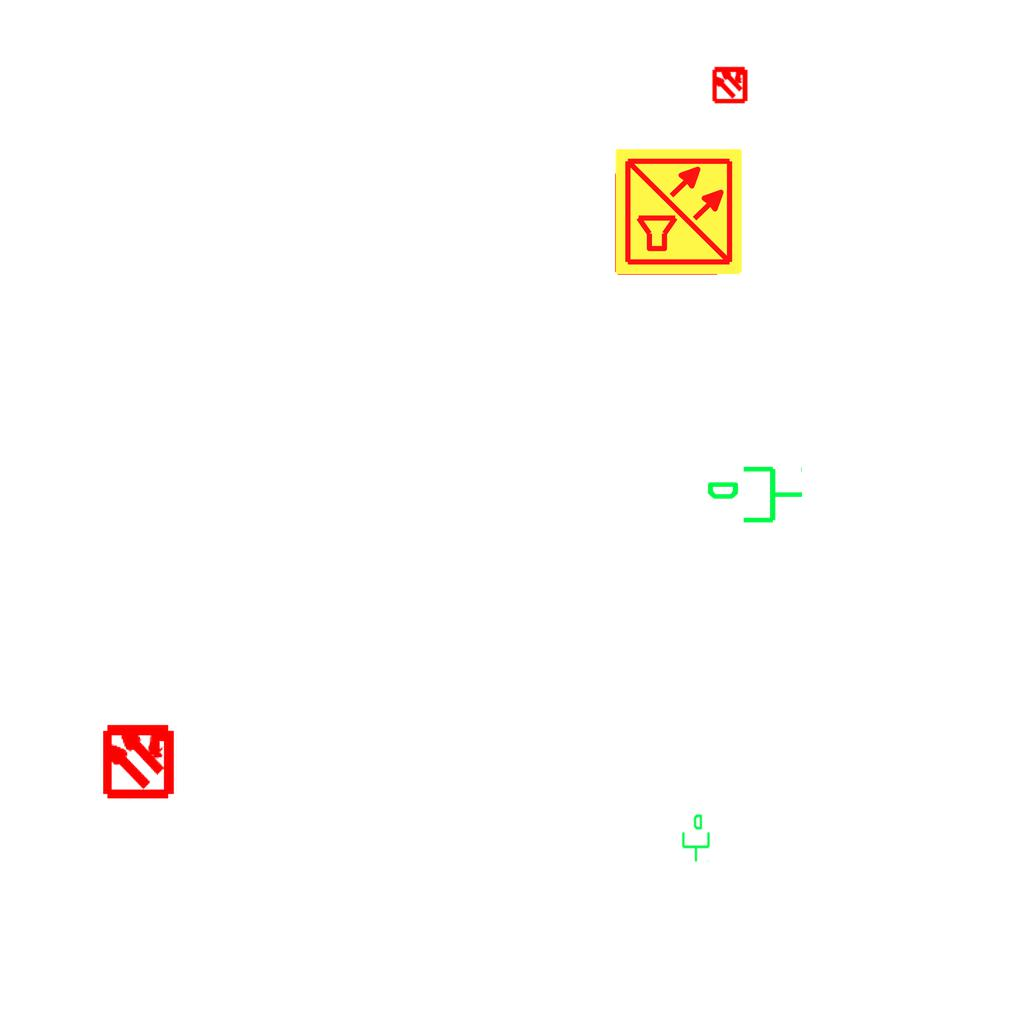Datenanschluss_einfach: (705, 462, 805, 531), (678, 813, 712, 863)
OKW_Multisensormelder_(Kombination_optischer_Rauch-Kahlenmonoxid_Waerme-Melder): (613, 146, 745, 278)
OT_Multisensormelder_(Kombination_RMO_WMD): (82, 703, 195, 816), (702, 56, 758, 112)
